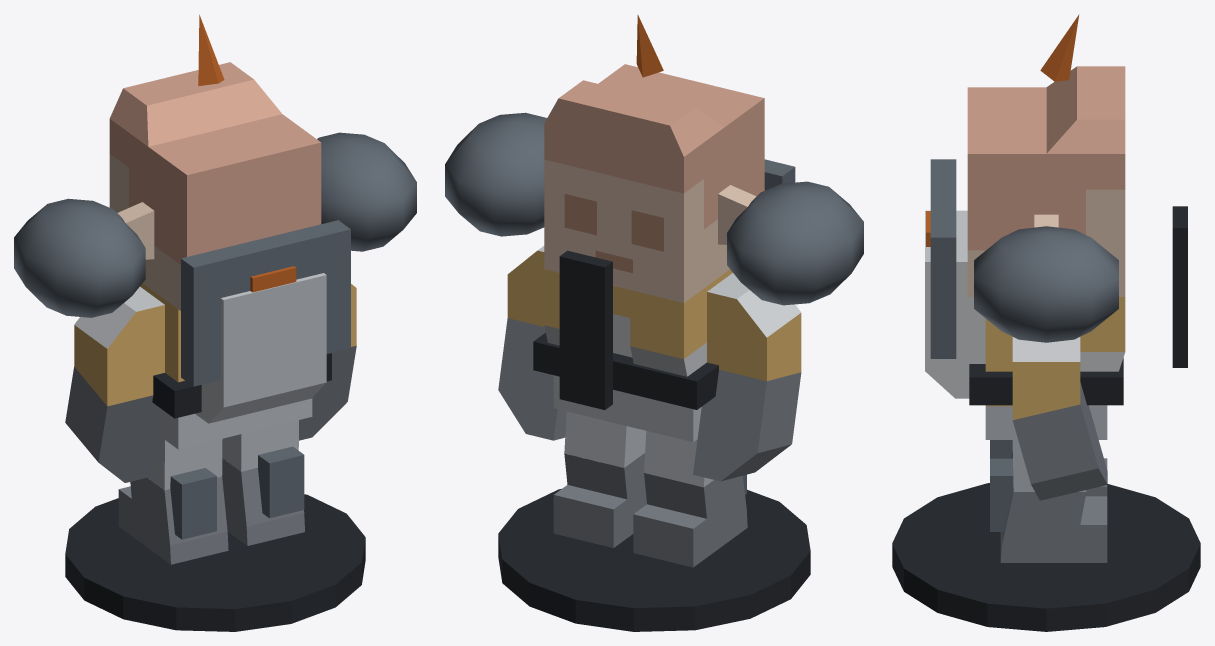
The model's file is armour-heavy.glb.
3 renders of one model, left to right at view 1: azimuth 30°, elevation 25°; view 2: azimuth 150°, elevation 25°; view 3: azimuth 270°, elevation 25°, orthographic. The views are drawn at different scales.
Parts seen in each view (by area): view 1: armour-heavy; view 2: armour-heavy; view 3: armour-heavy.
Boxes of the visible parts, x1,y1,x2,y2 form: armour-heavy: [14, 14, 416, 631]; armour-heavy: [445, 14, 863, 631]; armour-heavy: [892, 14, 1200, 631].
Size of the model in its own units: 0.8673 by 1.19 by 0.6001.
